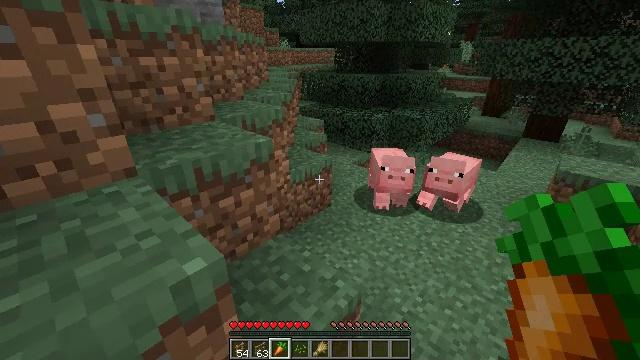pig: (416, 151, 483, 208), (370, 148, 415, 210)
